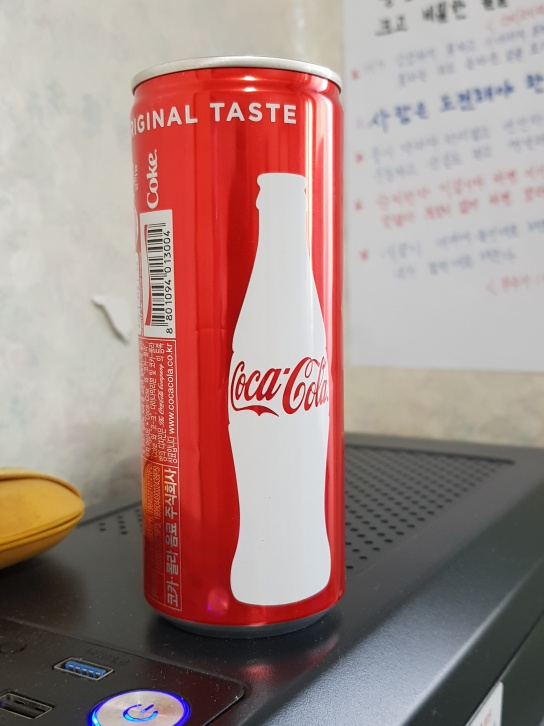Can: (140, 53, 351, 644)
